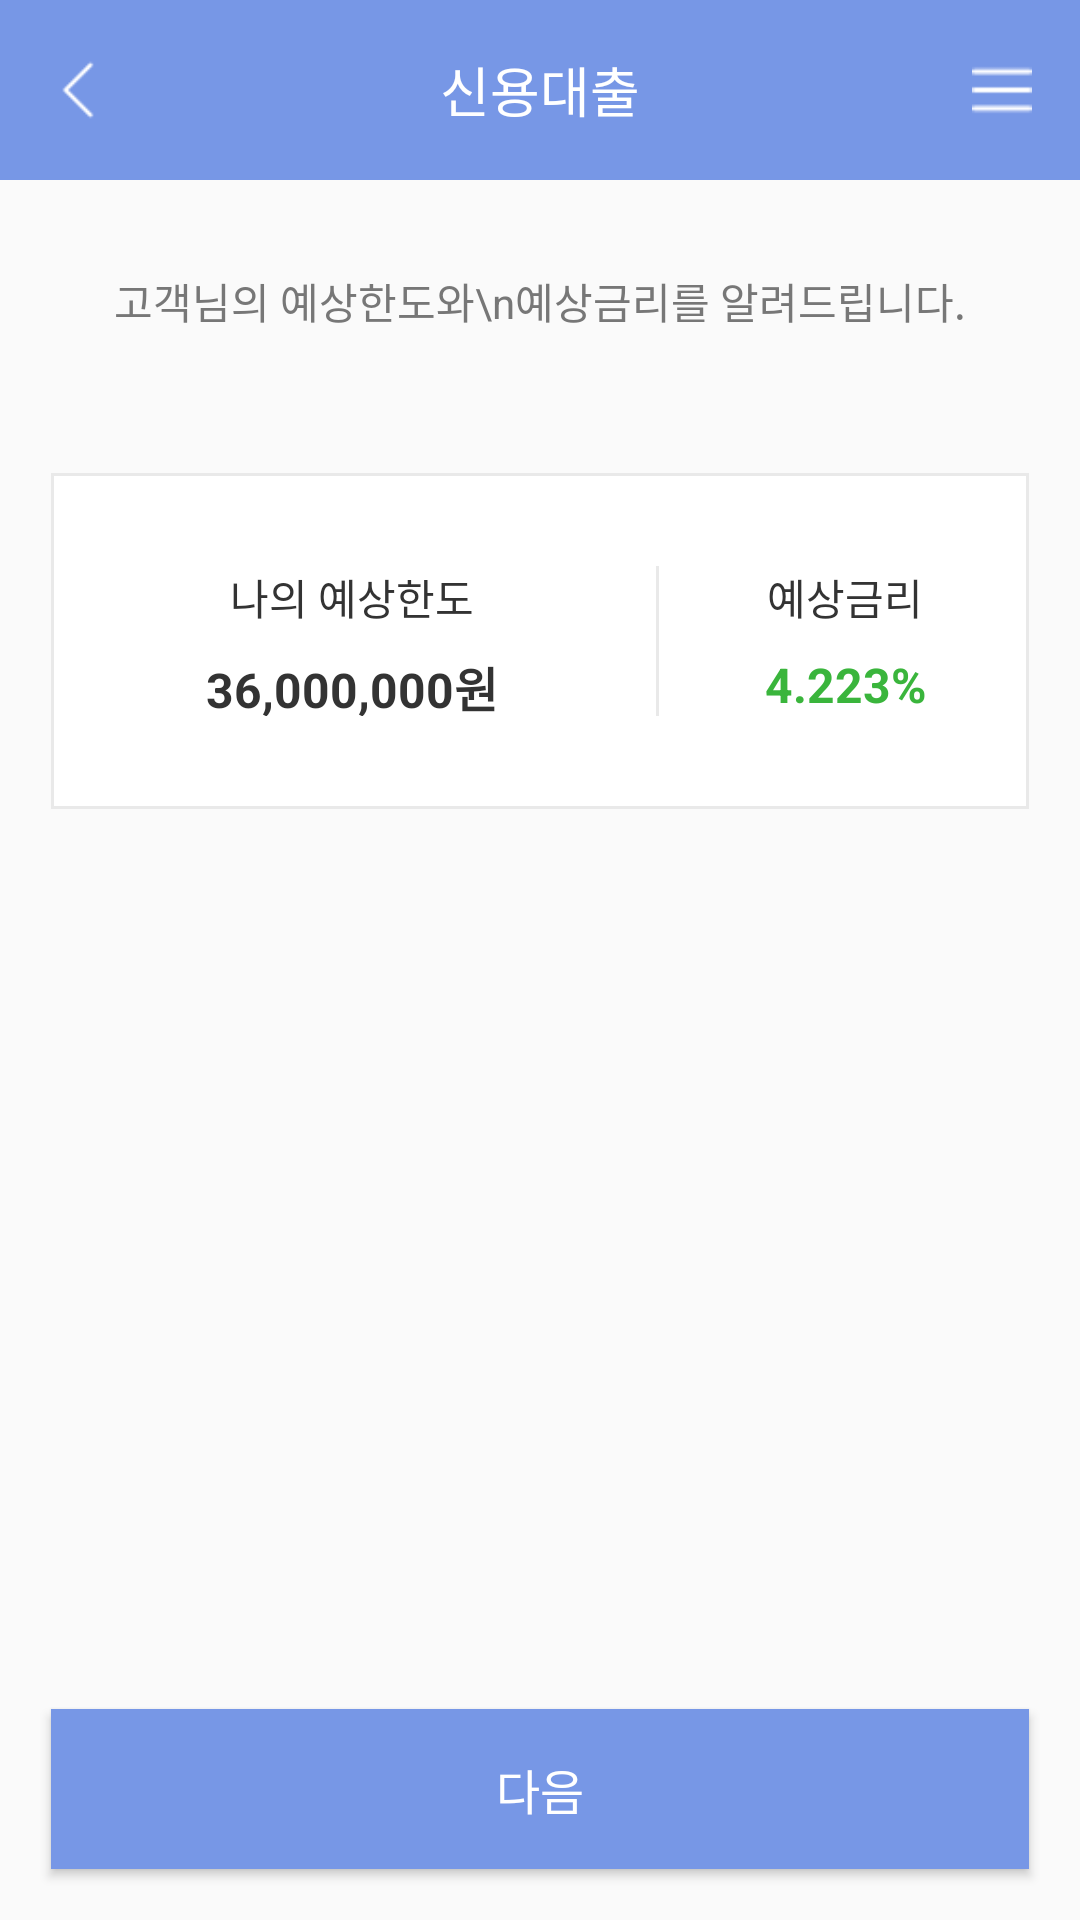

Where icons sit on this 1080 × 1920 app screen, as bbox(x1, y1, x2, y2):
top back: bbox(63, 62, 93, 118)
top menu: bbox(972, 68, 1032, 112)
